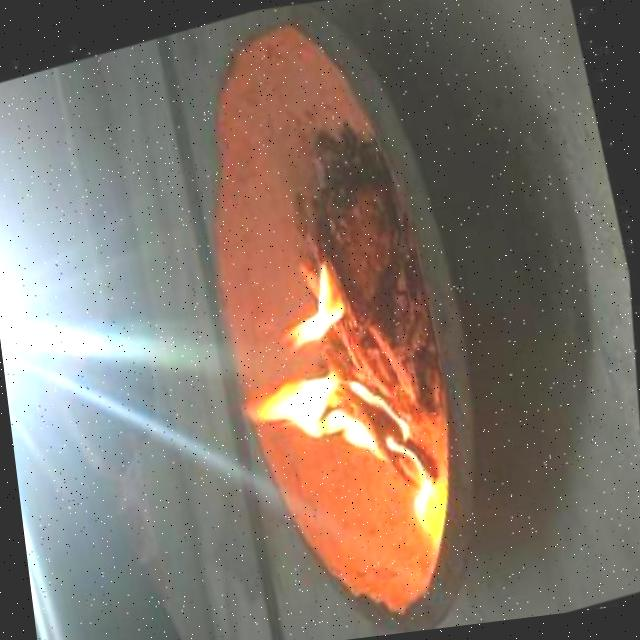fire: (240, 344, 455, 528), (264, 254, 368, 358)
